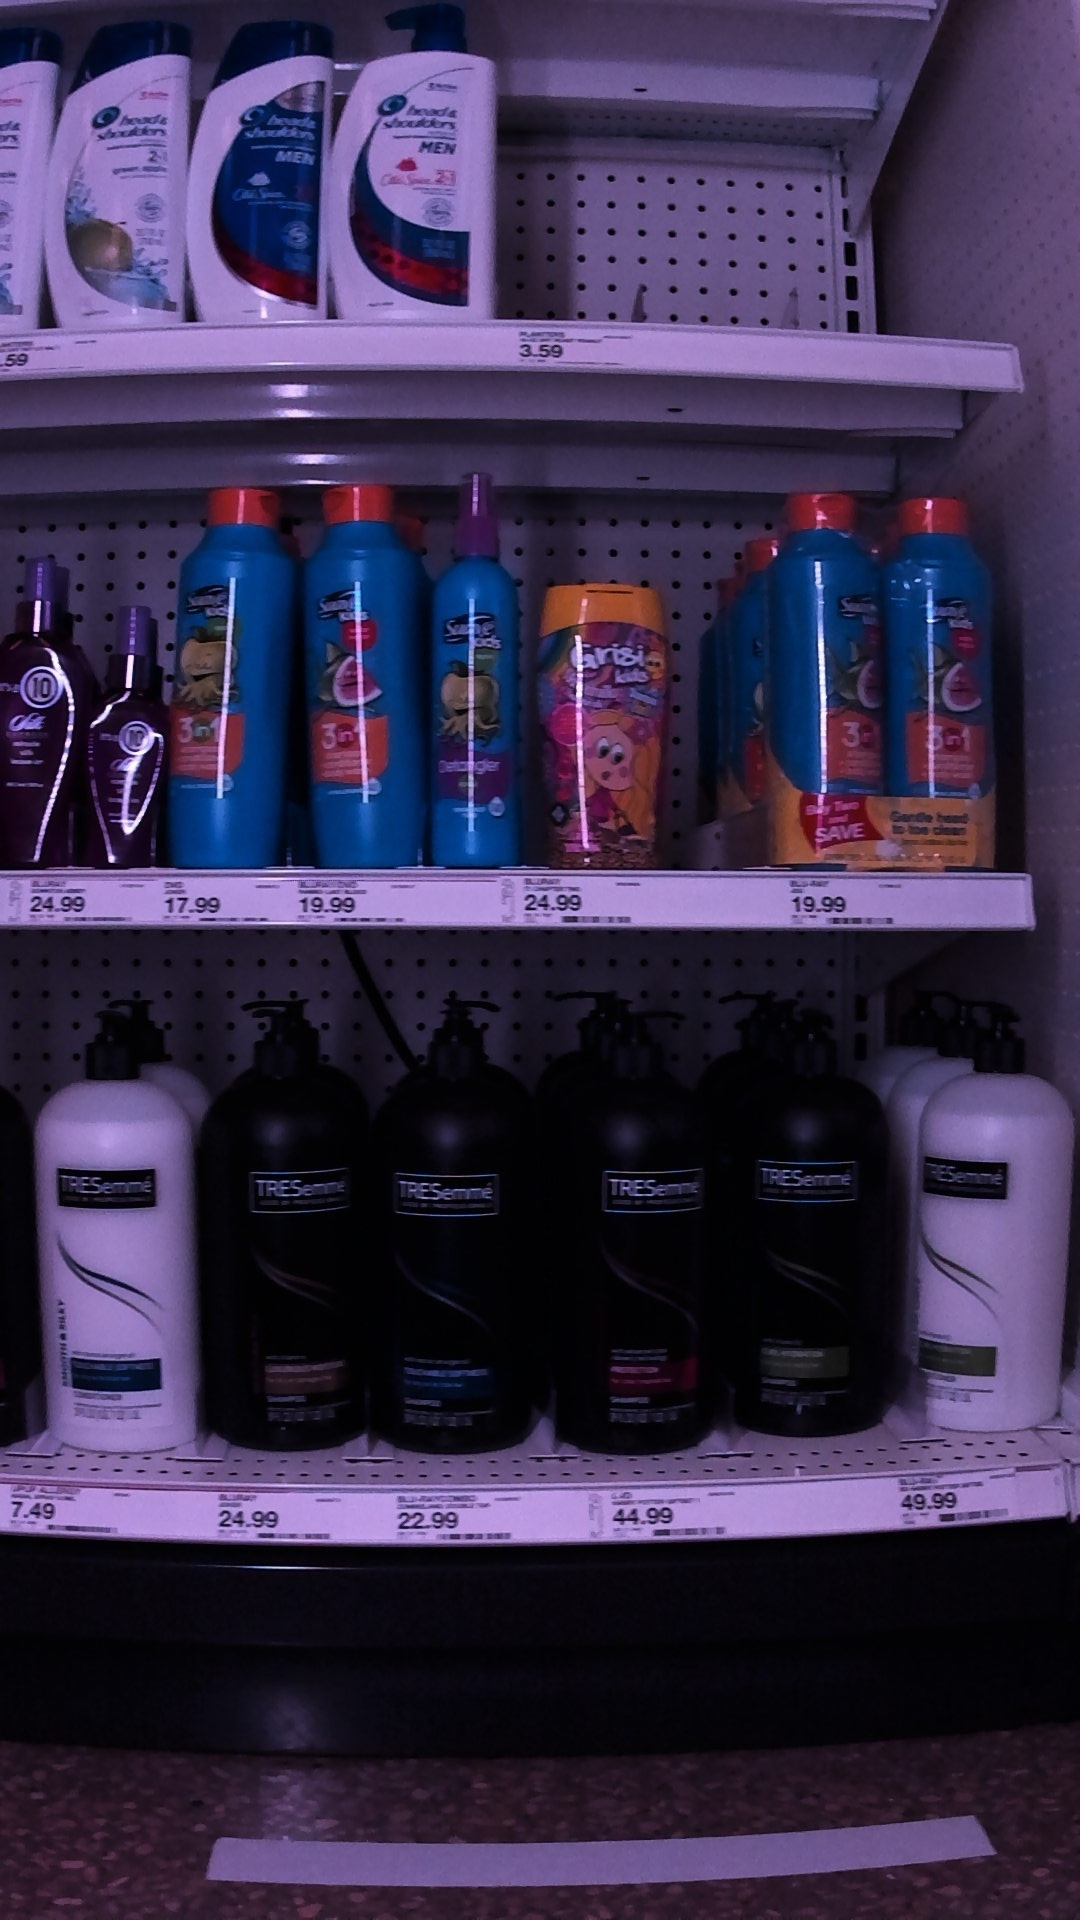ptag: (781, 866, 909, 940), (158, 862, 264, 938), (591, 1489, 731, 1542), (392, 1491, 513, 1549), (206, 1491, 335, 1545), (500, 877, 636, 928), (20, 869, 131, 931), (509, 315, 633, 369), (4, 1480, 117, 1538), (295, 873, 411, 928), (891, 1477, 1015, 1528)
